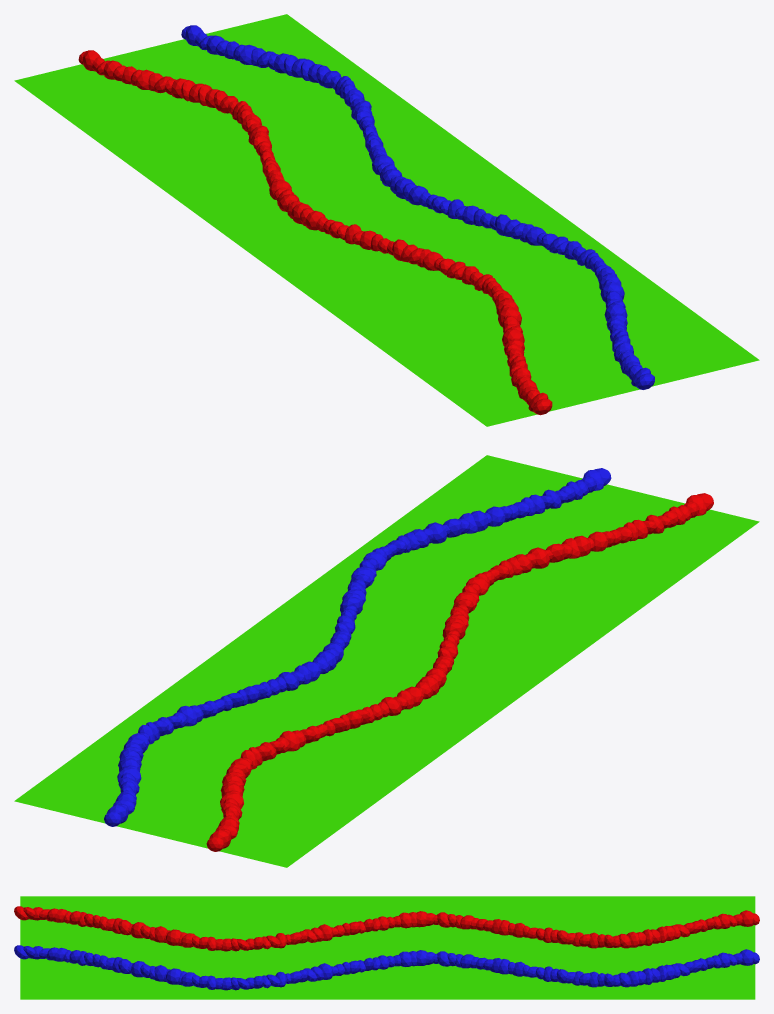
The model's file is path.glb.
The picture shows the model from 3 angles, top to bottom: view 1: azimuth 30°, elevation 25°; view 2: azimuth 150°, elevation 25°; view 3: azimuth 270°, elevation 25°; orthographic projection. The views are drawn at different scales.
Visible parts, largest first — view 1: Plane, BézierCurve, BézierCurve.001; view 2: Plane, BézierCurve, BézierCurve.001; view 3: Plane, BézierCurve.001, BézierCurve.
Part boxes in pixels (x1,y1,x2,y2): Plane: (14, 14, 759, 426); BézierCurve: (78, 50, 552, 415); BézierCurve.001: (181, 25, 654, 389); Plane: (14, 455, 759, 867); BézierCurve: (206, 493, 713, 851); BézierCurve.001: (104, 468, 611, 826); Plane: (20, 896, 755, 999); BézierCurve.001: (14, 945, 759, 990); BézierCurve: (14, 906, 759, 951).
Size of the model in its own units: 15 by 1.11 by 45.67.
